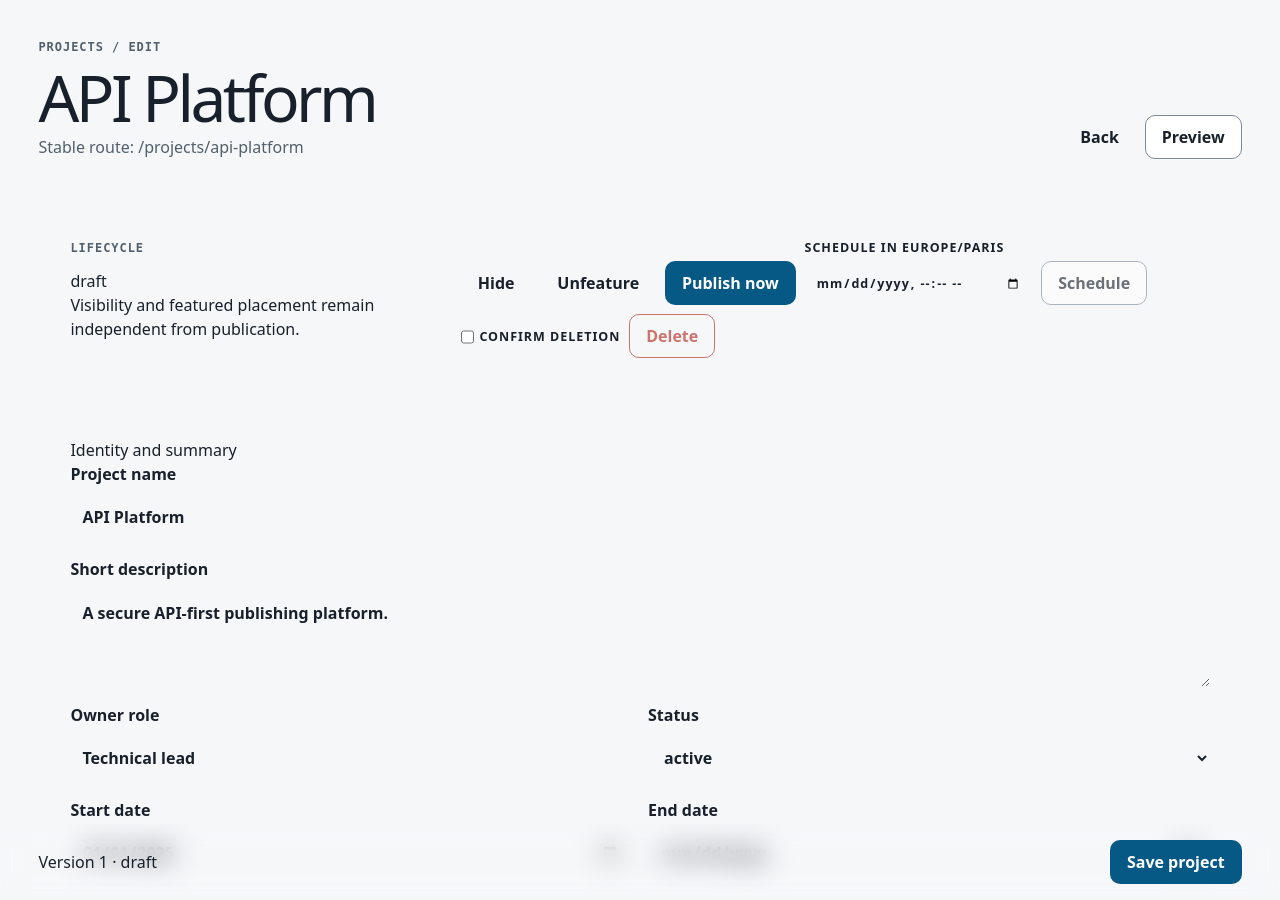
it: project editor › retains complete case-study input and saves through the typed API seam
Expected: the heading "API Platform" is shown, [38, 68, 375, 129]
Replace the text in the field labelled "Project name" with "API Platform evolved": coordinates (351, 518) [70, 494, 632, 542]
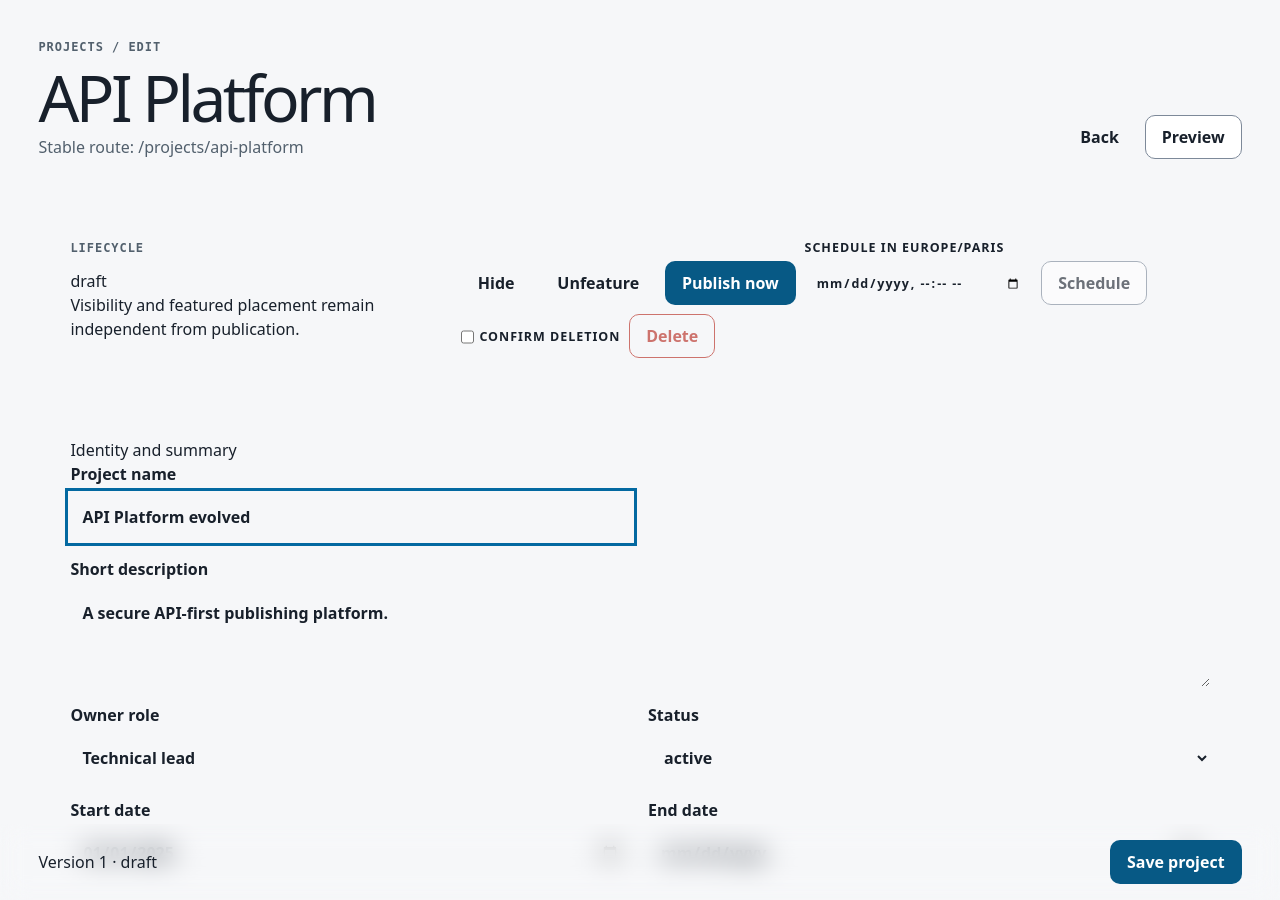
Click the button "Save project": coordinates (1176, 862) [1110, 840, 1242, 884]
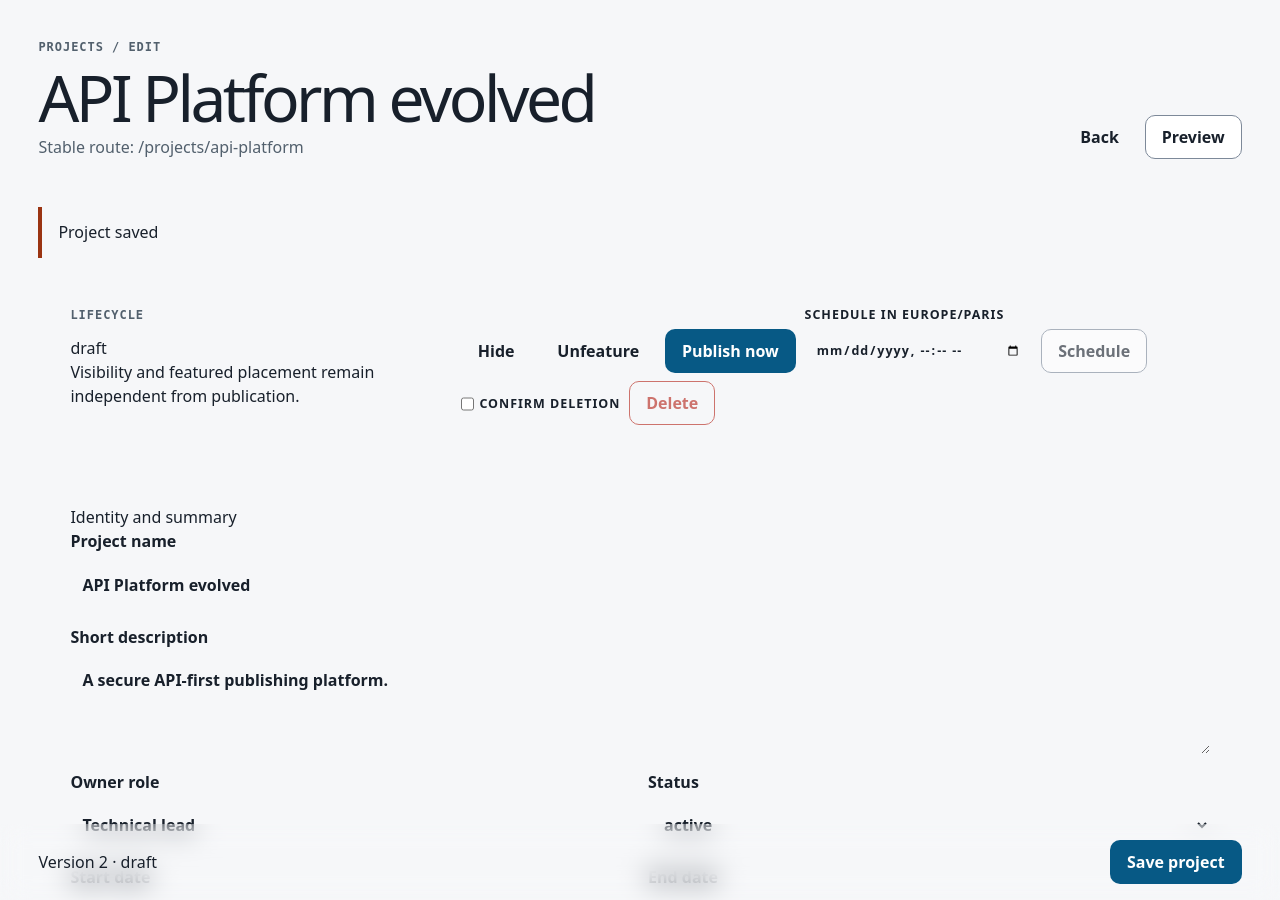
Expected: the message reads "Project saved", [58, 221, 158, 243]
